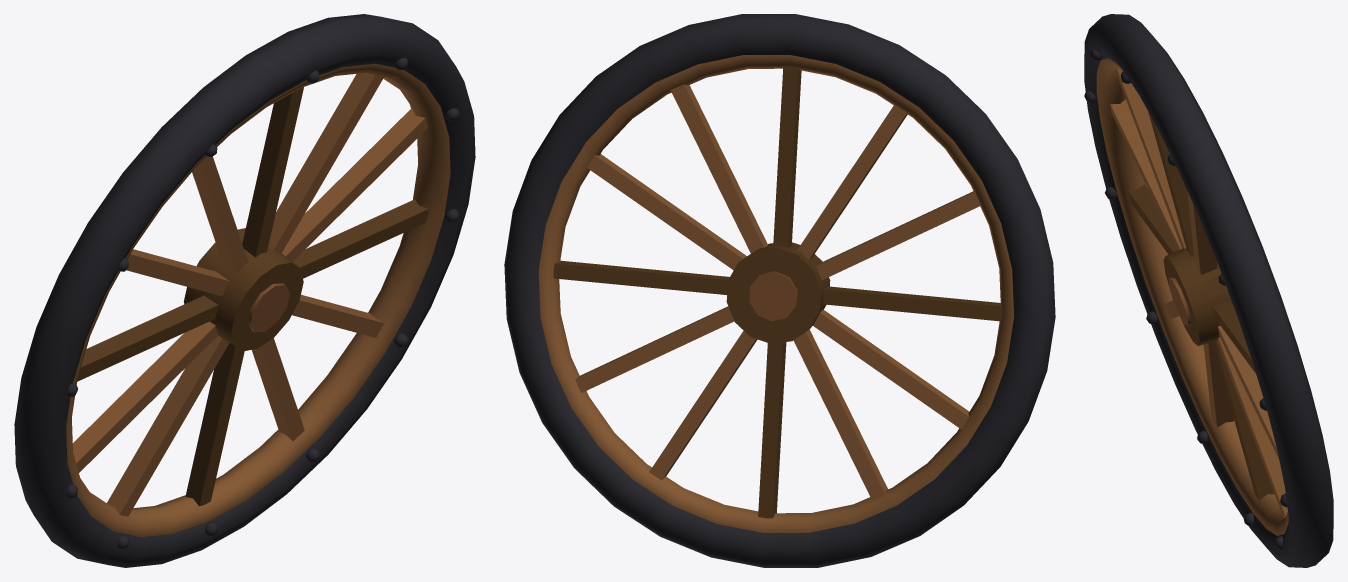
The model's file is mia-wagon_wheel.glb.
3 views of the same model, side by side, from view 1: azimuth 30°, elevation 25°; view 2: azimuth 150°, elevation 25°; view 3: azimuth 270°, elevation 25° (orthographic). The views are drawn at different scales.
Visible parts, largest first — view 1: Body_iron, Body_oak, Body_wood, Body_rust; view 2: Body_iron, Body_oak, Body_wood, Body_rust; view 3: Body_iron, Body_oak, Body_wood, Body_rust.
Boxes of the visible parts, bbox=[...] form: Body_iron: bbox=[14, 14, 475, 567]; Body_oak: bbox=[66, 63, 450, 536]; Body_wood: bbox=[77, 87, 428, 506]; Body_rust: bbox=[247, 283, 289, 332]; Body_iron: bbox=[504, 14, 1055, 567]; Body_oak: bbox=[538, 55, 1014, 532]; Body_wood: bbox=[553, 66, 1002, 518]; Body_rust: bbox=[749, 271, 797, 321]; Body_iron: bbox=[1084, 14, 1333, 567]; Body_oak: bbox=[1096, 58, 1288, 535]; Body_wood: bbox=[1128, 112, 1274, 500]; Body_rust: bbox=[1168, 277, 1191, 326].
Size of the model in its own units: 1.02 by 1.04 by 0.4525.
